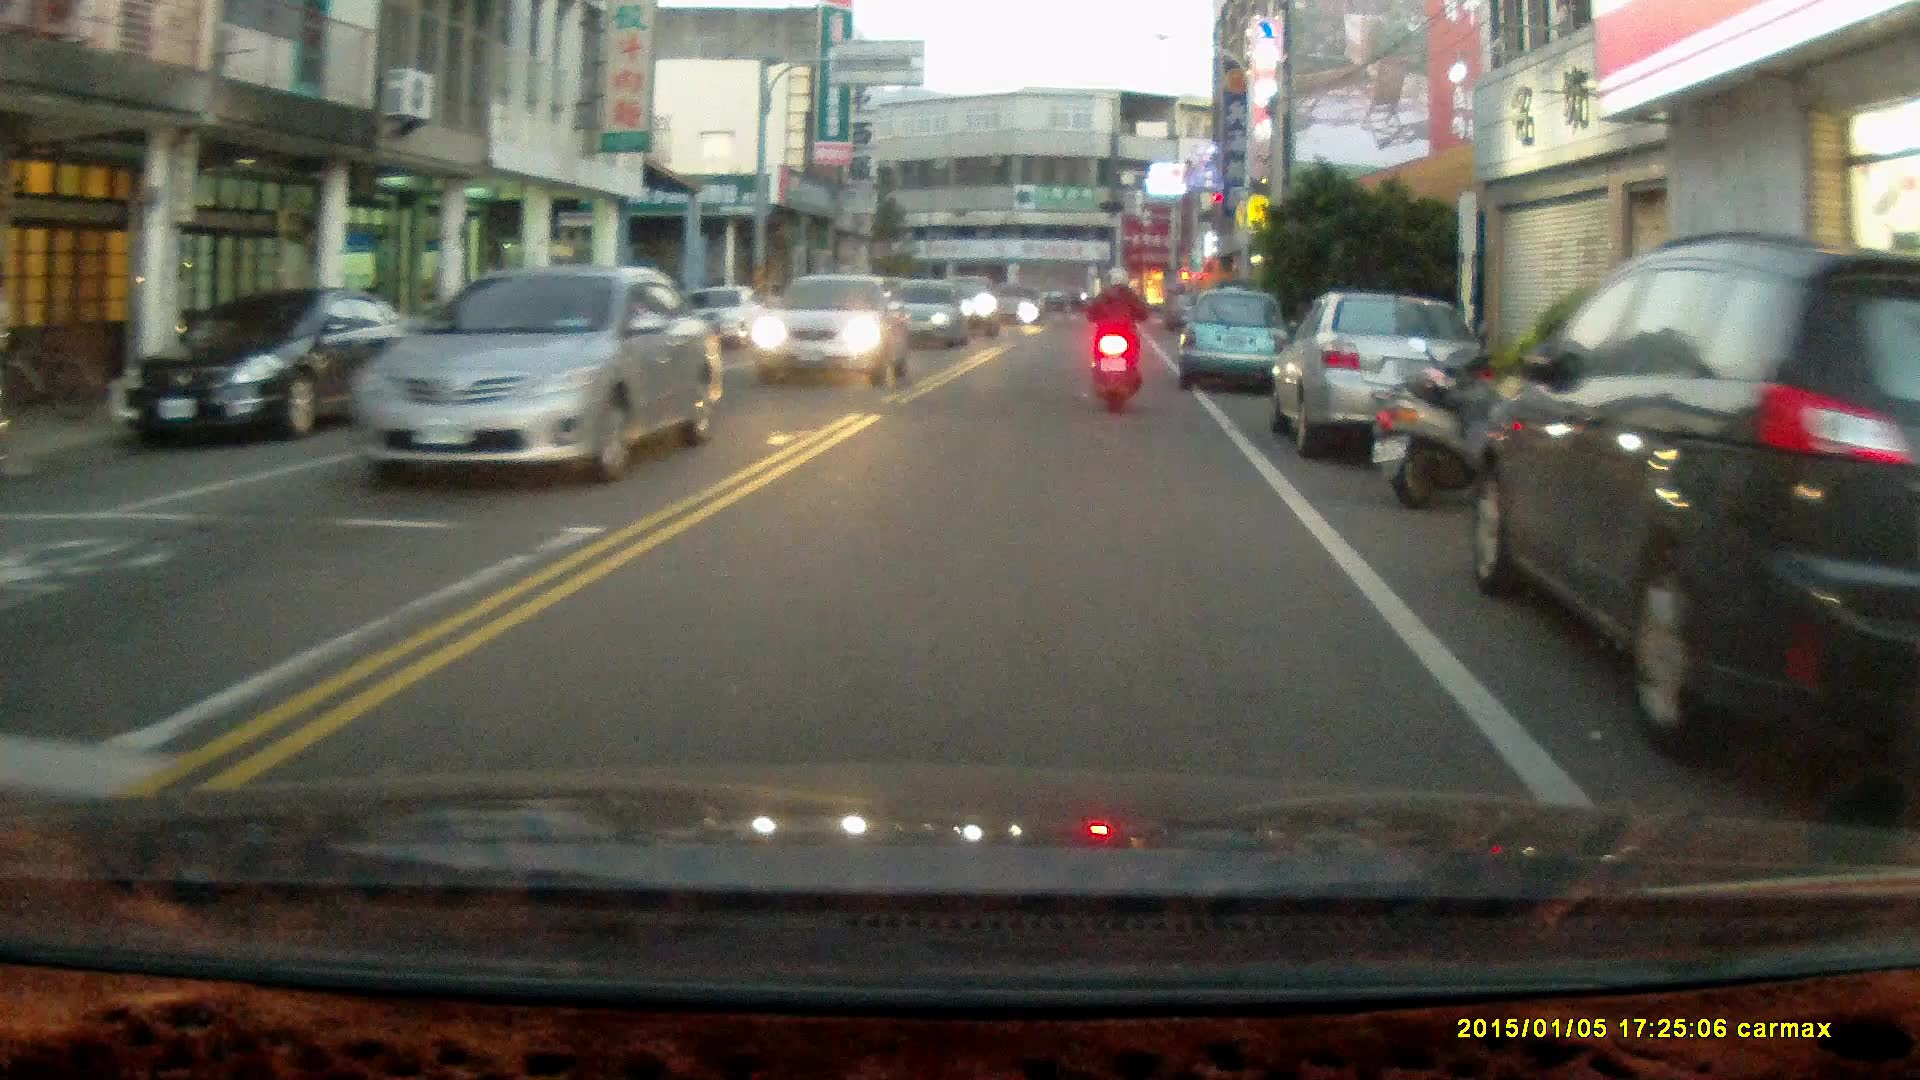rider: (1081, 263, 1145, 416)
vehicle: (1471, 228, 1920, 773), (343, 265, 729, 481), (110, 284, 416, 449), (1278, 298, 1481, 469), (750, 278, 911, 392), (1180, 289, 1292, 400), (889, 283, 973, 353)
